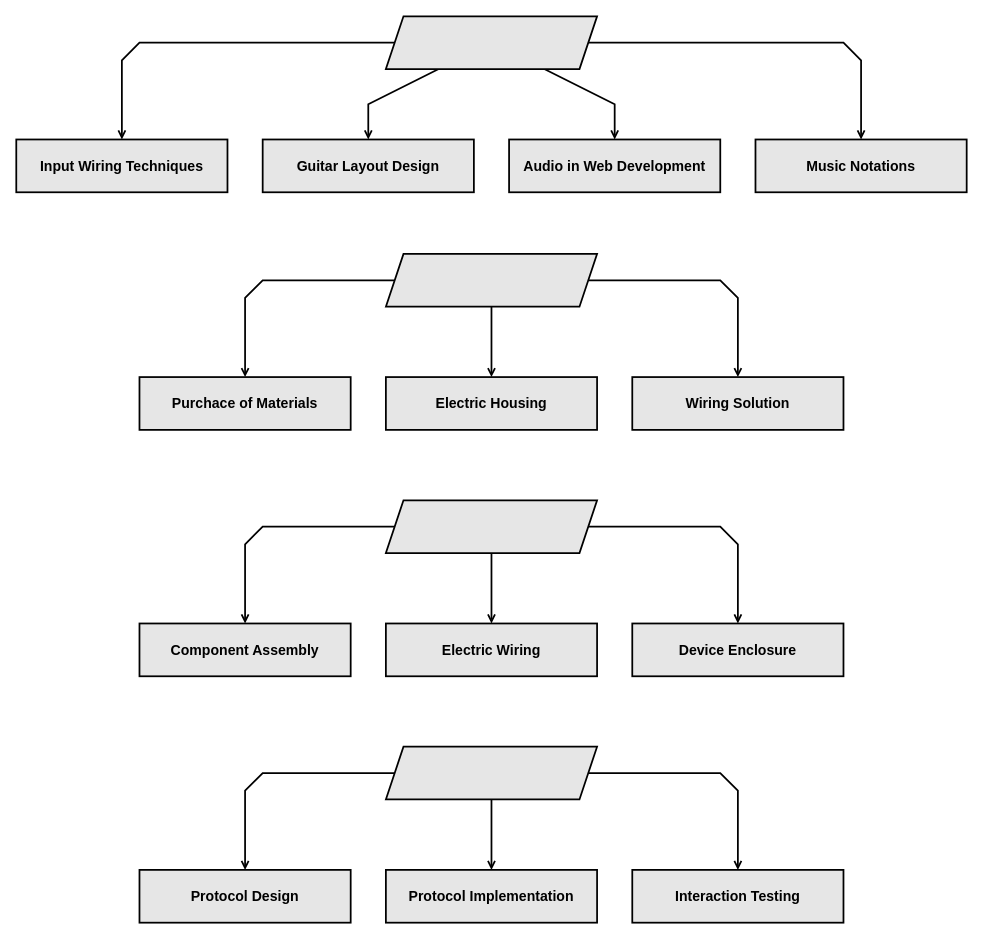
Some shapes in this 982 by 938 pixel diagram are drawn without their labels. The centre of each missing label's shape, as x and y in pixels:
"Communication" goes at (491,772).
"Console Design" goes at (491,280).
"Console Development" goes at (491,526).
"Research" goes at (491,42).
